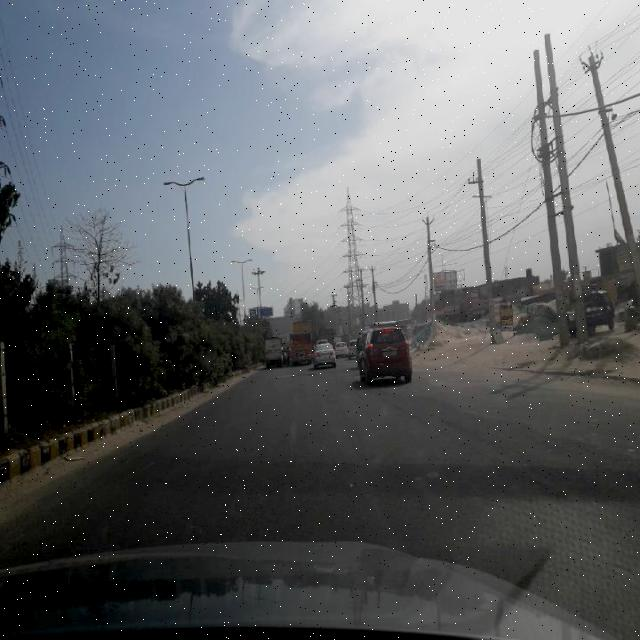D20: (11, 398, 554, 555)
